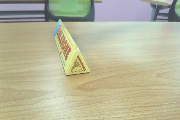Chocolate: (39, 19, 94, 83)
